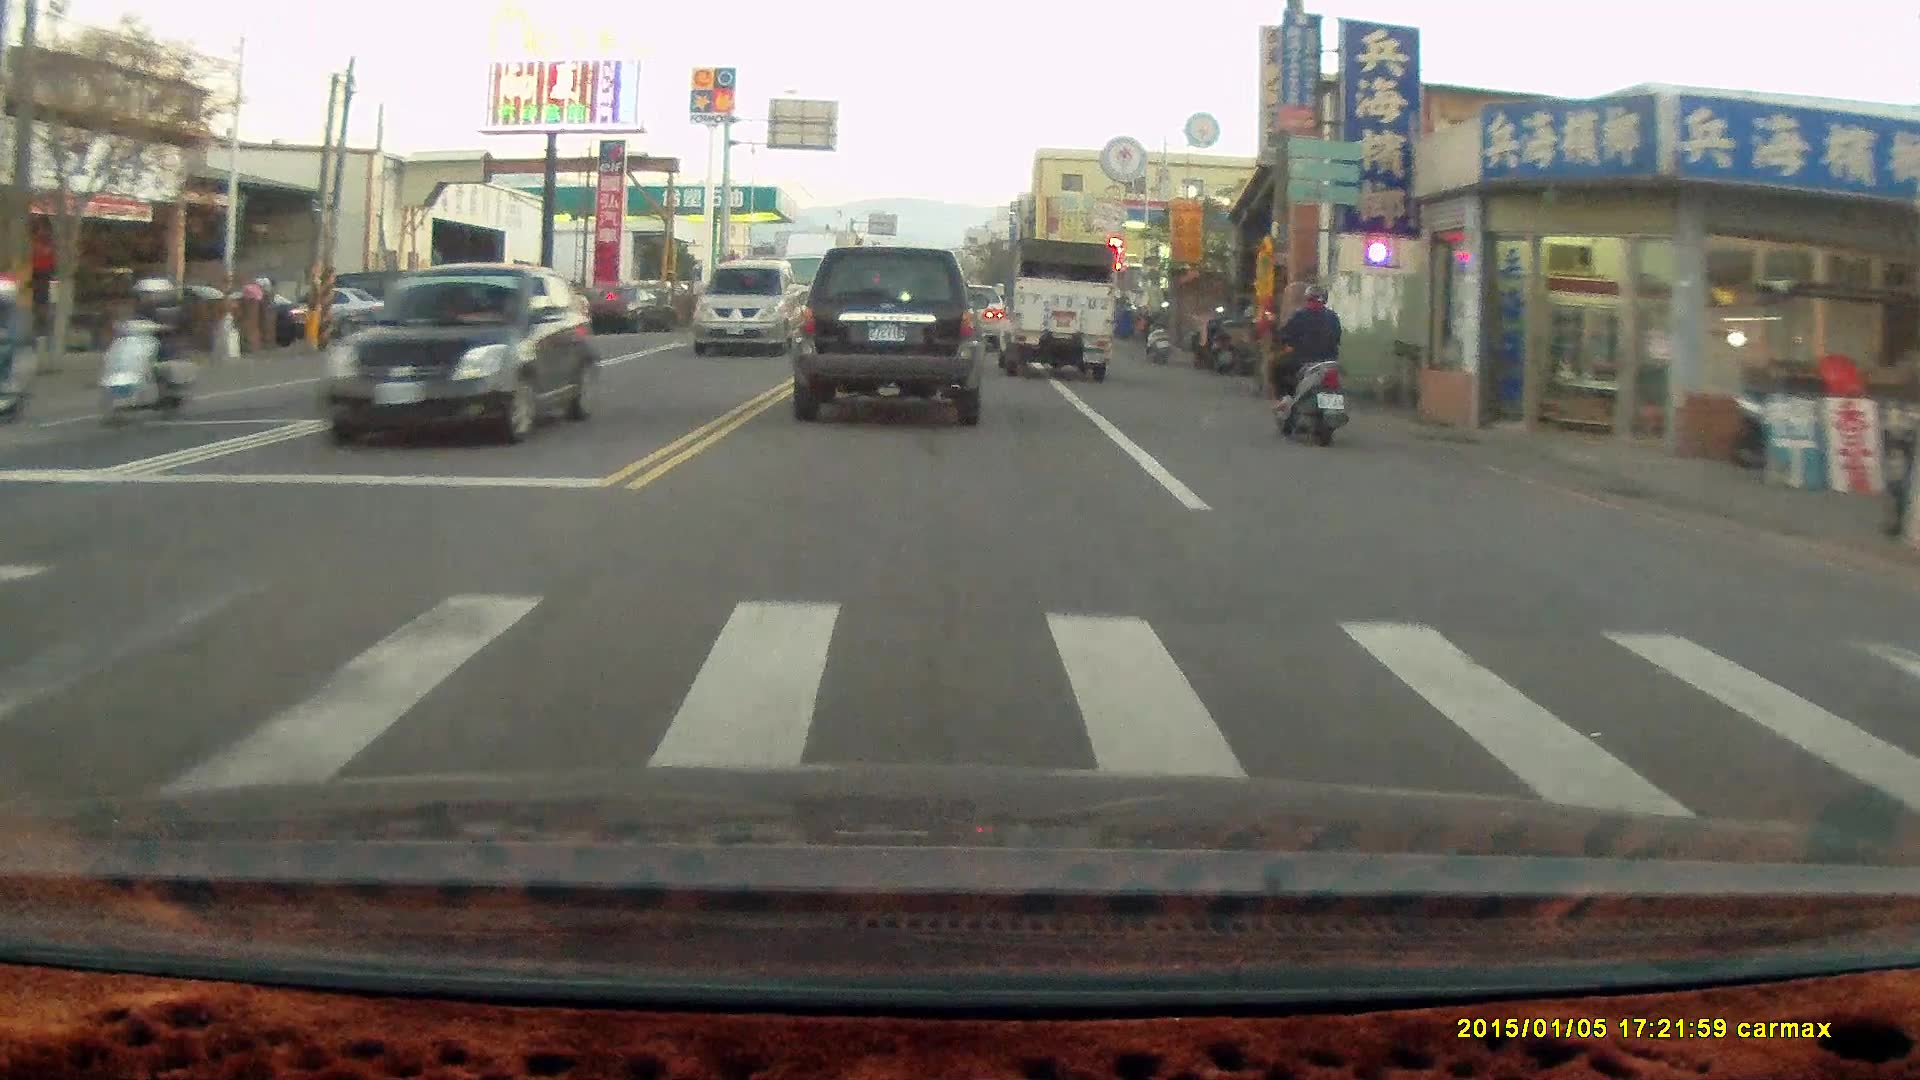rider: (88, 272, 206, 427), (1257, 275, 1350, 443), (0, 274, 39, 429)
vehicle: (324, 264, 600, 444), (789, 246, 985, 426), (994, 238, 1116, 383), (694, 259, 807, 357), (450, 285, 576, 356)
